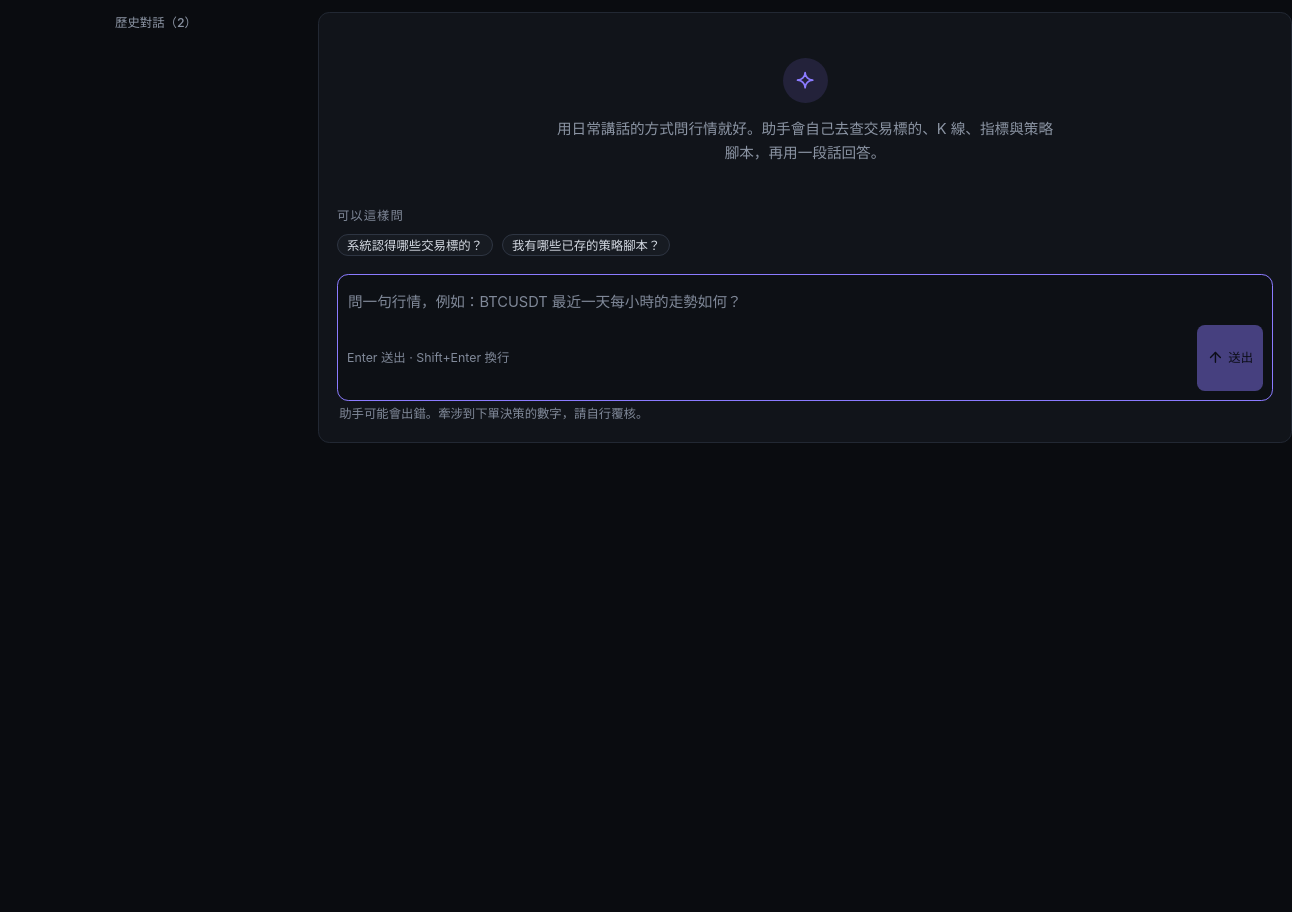
AssistantConsole › 按下那顆鍵，歷史對話攤開
Click the button with test id "toggle-conversation-list": [156, 23] box [12,12,300,34]
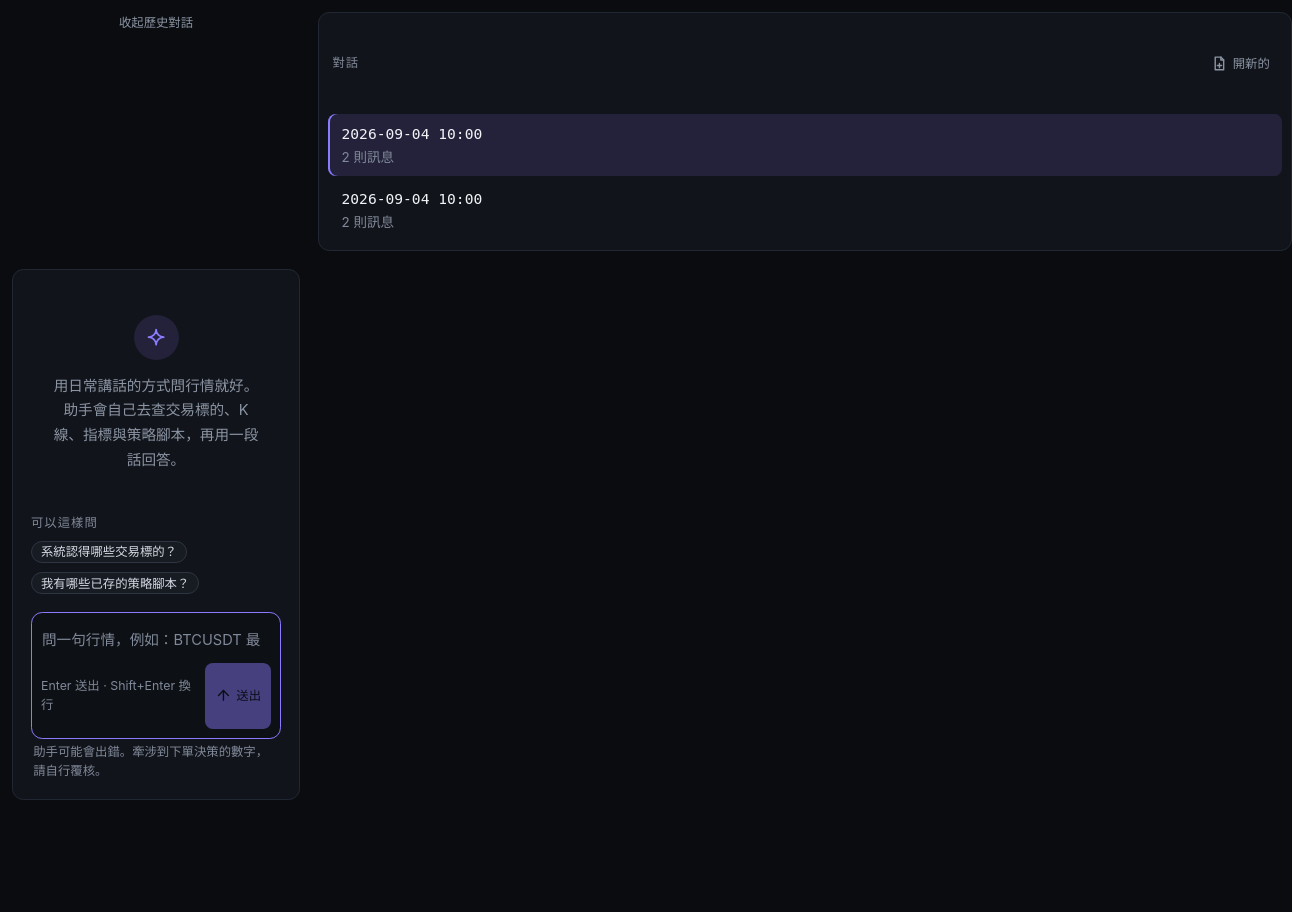
Expected: the button with test id "assistant-list-item-2" is shown, [328,179,1282,241]
Expected: the button with test id "toggle-conversation-list" is expanded, [12,12,300,34]
